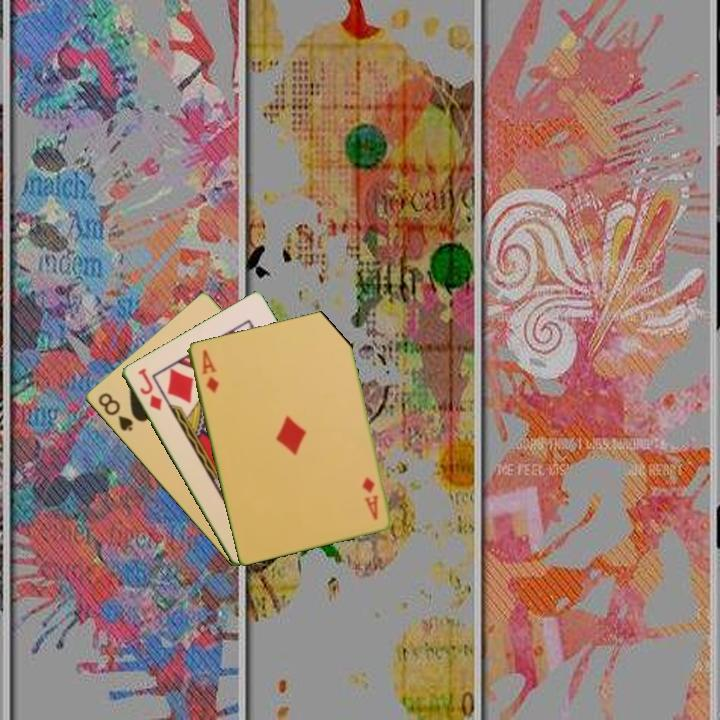8s: (94, 389, 135, 434)
Ad: (198, 346, 222, 396), (358, 473, 381, 523)
Jd: (134, 364, 165, 413)
